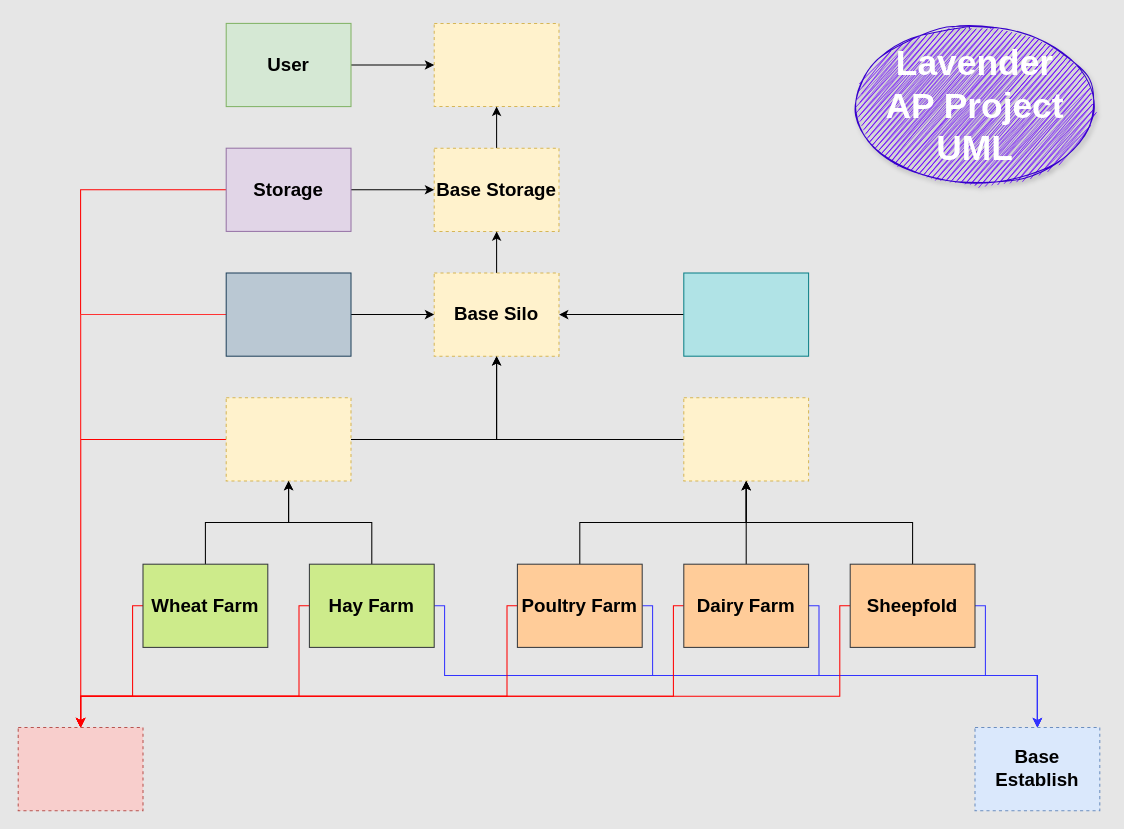
Some shapes in this 1124 by 829 pixel diagram are drawn without their labels. Here are the shapes that lost their labels. From the top down, the centre of each, then its label:
At point 496,64: "Base User".
At point 288,314: "Silo".
At point 746,314: "Shop".
At point 288,439: "Base Farm".
At point 746,439: "Base Animal Farm".
At point 80,768: "Base Upgrade".
